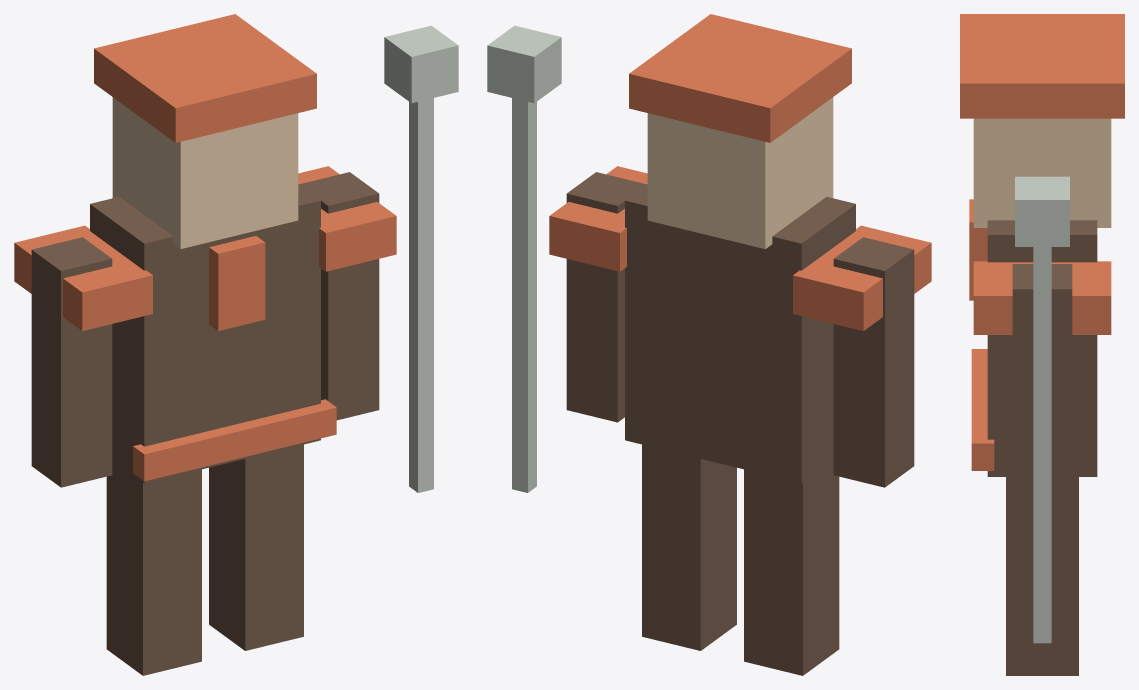
File: 03_calder_starfall_fixer_at_suntrack.glb
The picture shows the model from 3 angles, left to right: view 1: azimuth 30°, elevation 25°; view 2: azimuth 150°, elevation 25°; view 3: azimuth 270°, elevation 25°; orthographic projection.
Visible parts, largest first — view 1: Calder Starfall, Fixer at Suntrack; view 2: Calder Starfall, Fixer at Suntrack; view 3: Calder Starfall, Fixer at Suntrack.
Boxes of the visible parts, x1=… form: Calder Starfall, Fixer at Suntrack: x1=14, y1=14, x2=458, y2=675; Calder Starfall, Fixer at Suntrack: x1=487, y1=14, x2=931, y2=675; Calder Starfall, Fixer at Suntrack: x1=960, y1=14, x2=1124, y2=675.
Size of the model in its own units: 1.11 by 1.54 by 0.3924.
